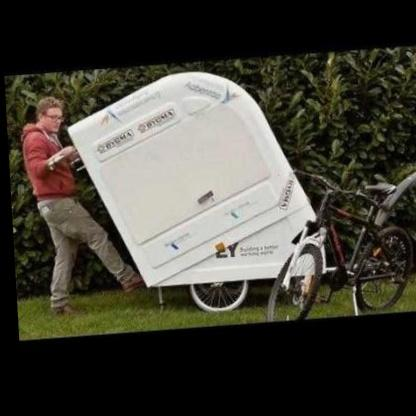Bicycle: (267, 159, 416, 315)
